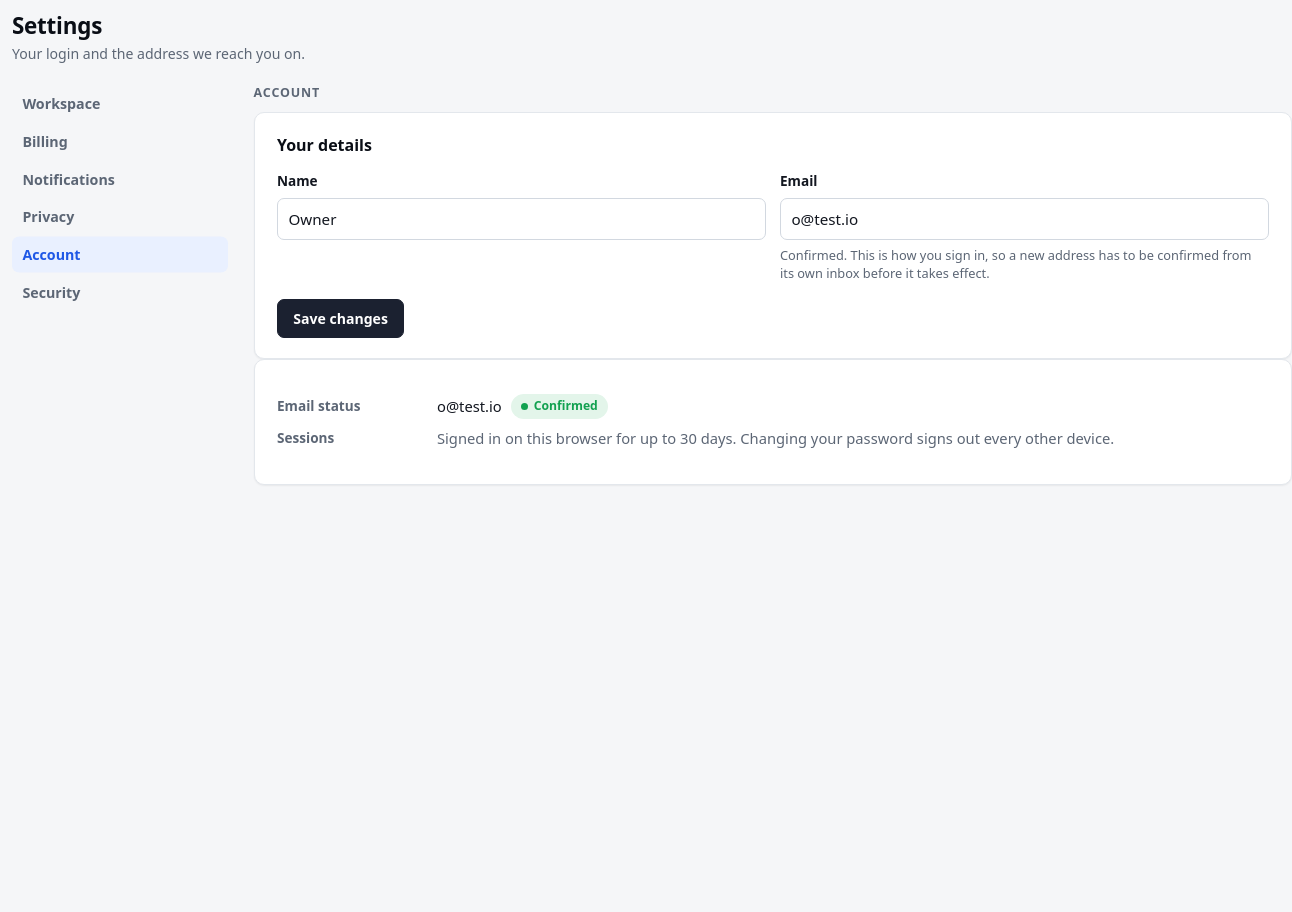
Test: Settings → Account › reports a wrong password in the words the field uses
Replace the text in the field labelled "Email" with "new@test.io": (1024, 219) top-left (780, 198), bottom-right (1269, 240)
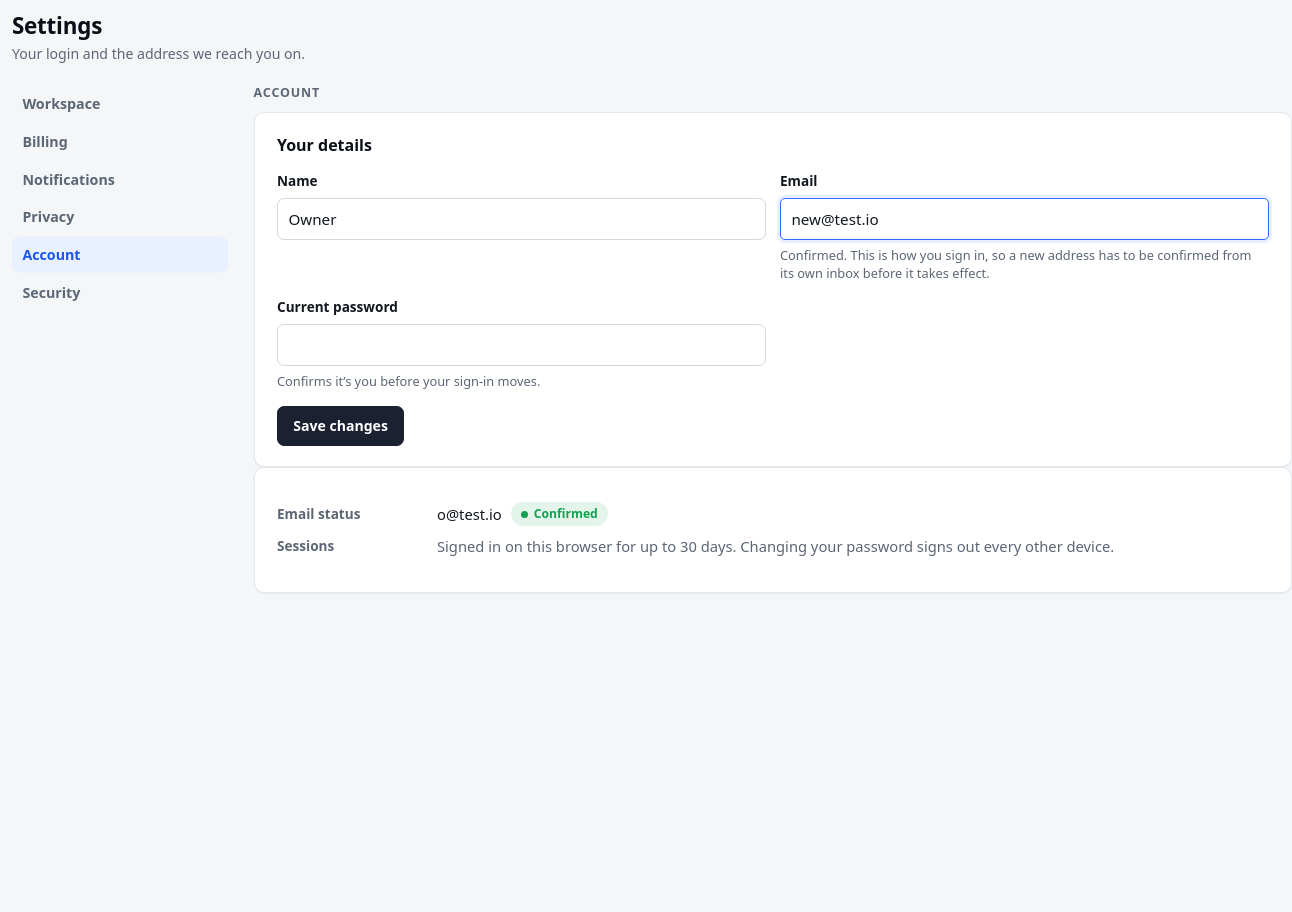
In the password field labelled "Current password": (521, 345) top-left (277, 324), bottom-right (766, 366), type "wrong-password-1"
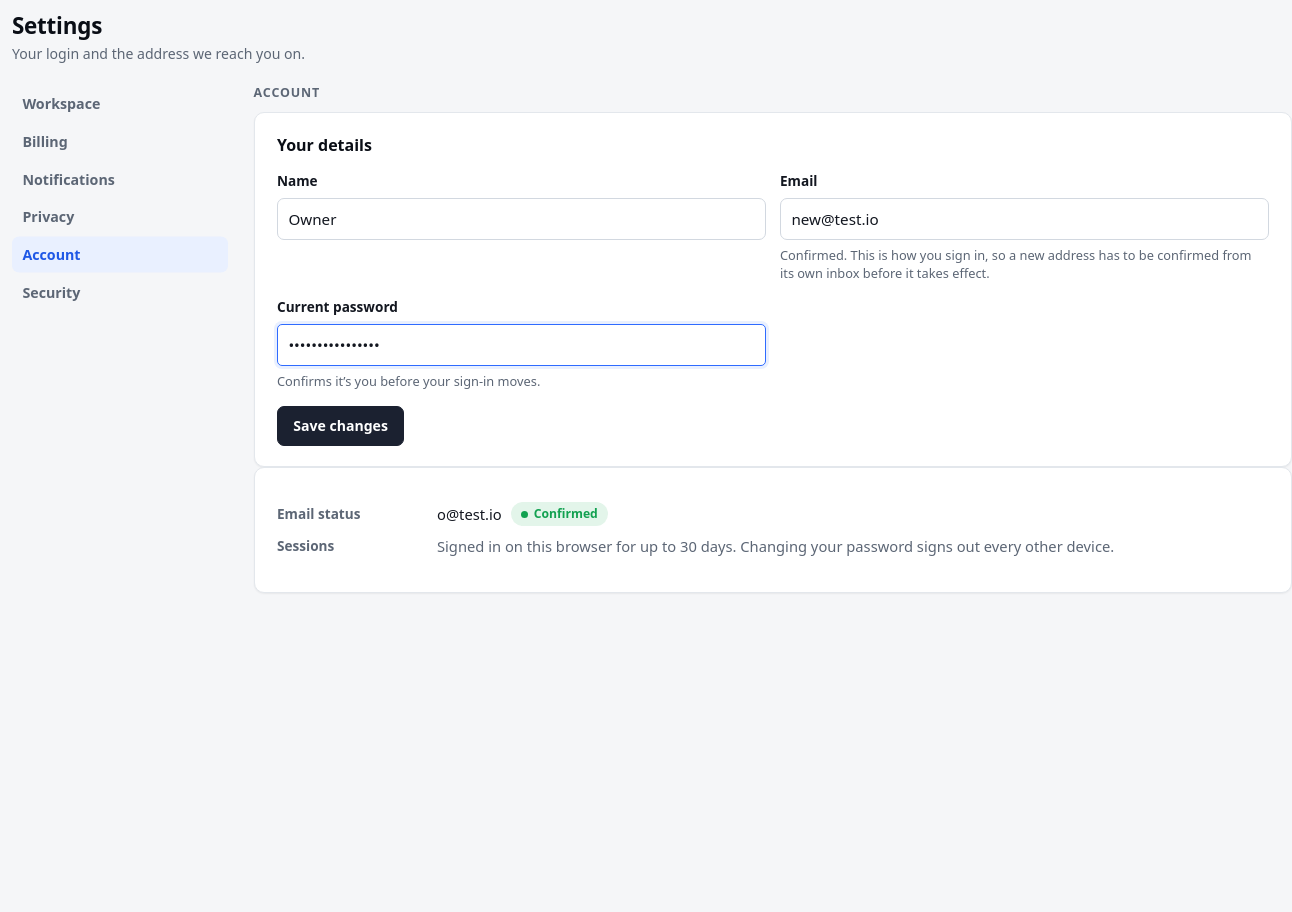
Click the button "Save changes": (341, 426) top-left (277, 406), bottom-right (404, 446)
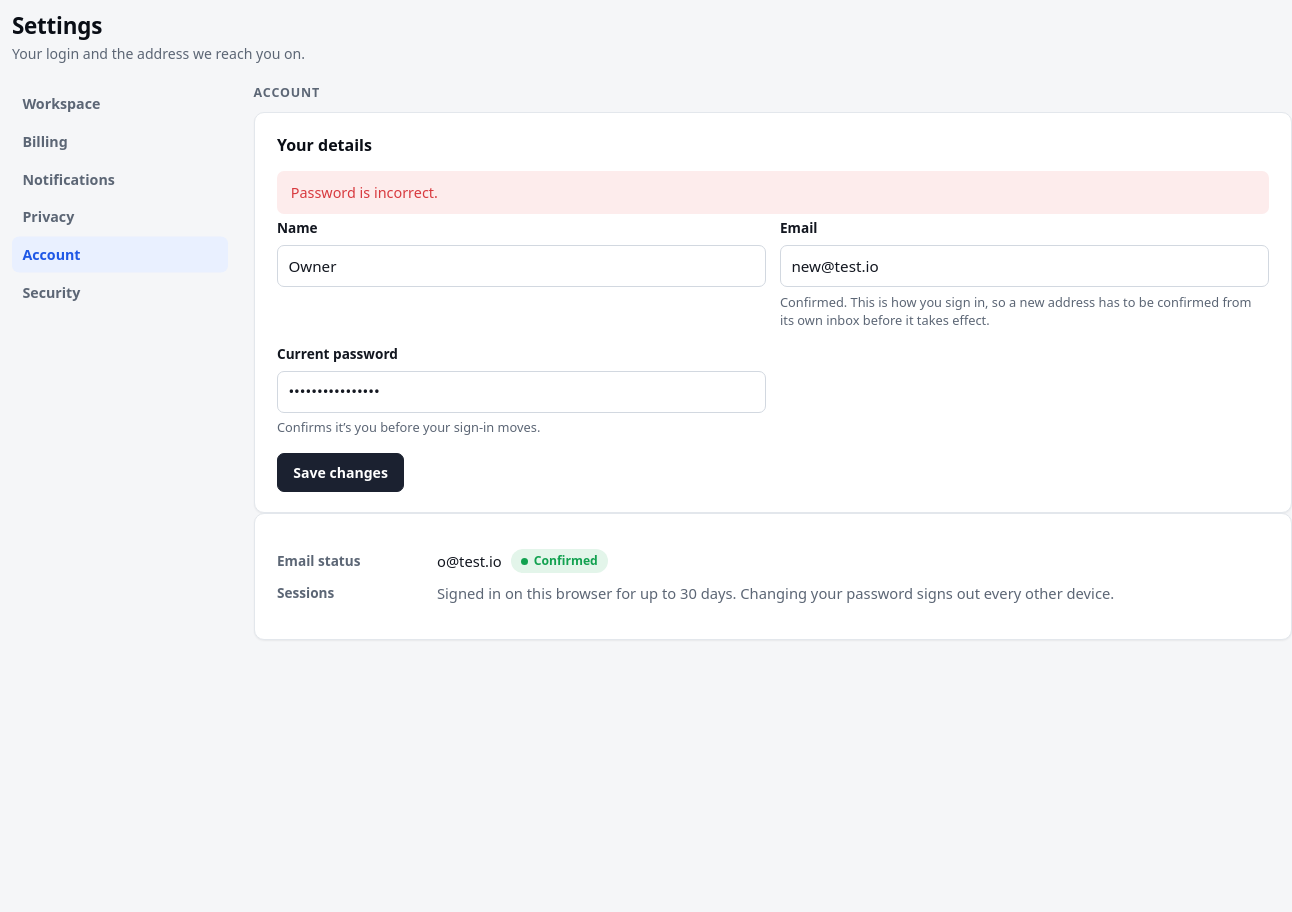
Check: the message reads "Password is incorrect.", box top-left (291, 183), bottom-right (438, 202)
